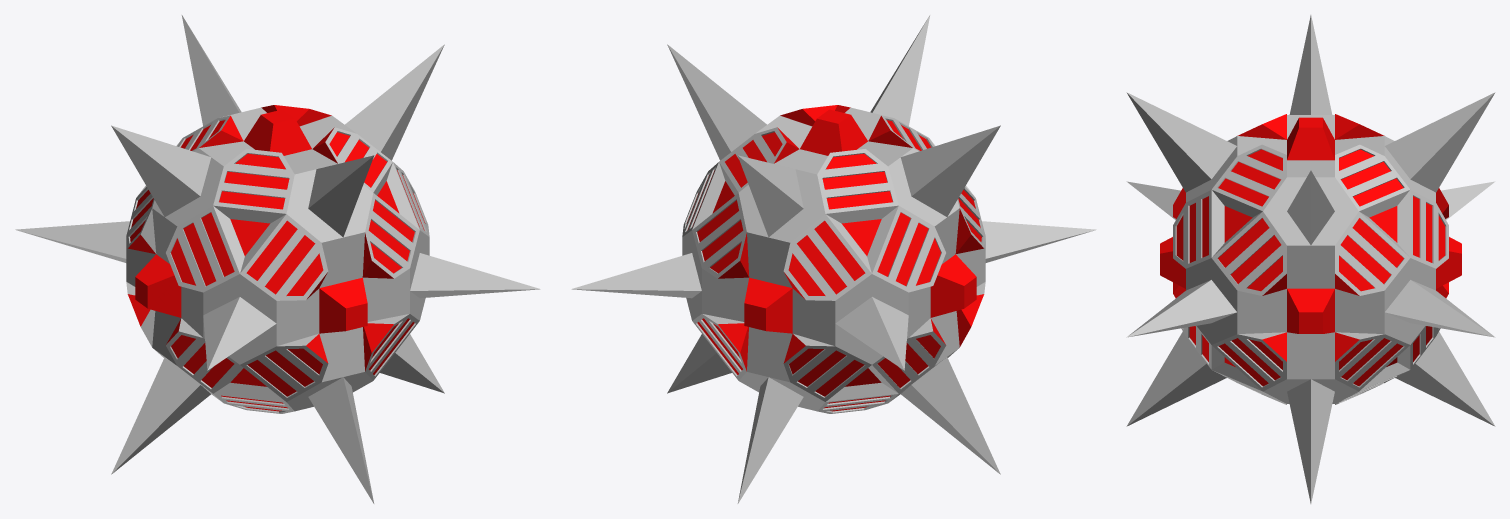
File: bomb.glb
The picture shows the model from 3 angles, left to right: view 1: azimuth 30°, elevation 25°; view 2: azimuth 150°, elevation 25°; view 3: azimuth 270°, elevation 25°; orthographic projection. The views are drawn at different scales.
Visible parts, largest first — view 1: Object_3, Object_2; view 2: Object_3, Object_2; view 3: Object_3, Object_2.
Boxes of the visible parts, box(x1,y1,x2,y2) form: Object_3: box(15, 15, 540, 503); Object_2: box(127, 105, 425, 411); Object_3: box(571, 15, 1096, 503); Object_2: box(686, 105, 984, 411); Object_3: box(1126, 15, 1495, 503); Object_2: box(1160, 114, 1461, 386).
Size of the model in its own units: 6126 by 6126 by 6126.
